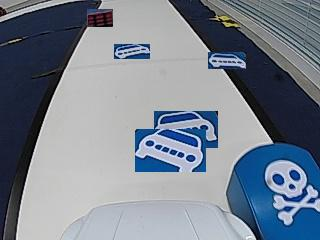danger: (262, 158, 319, 226)
